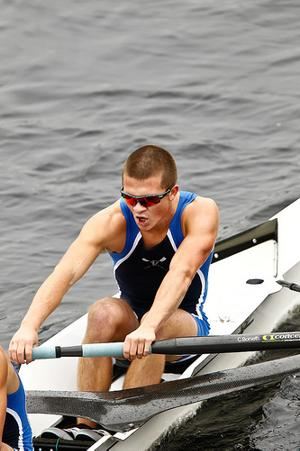person: (9, 143, 219, 433)
